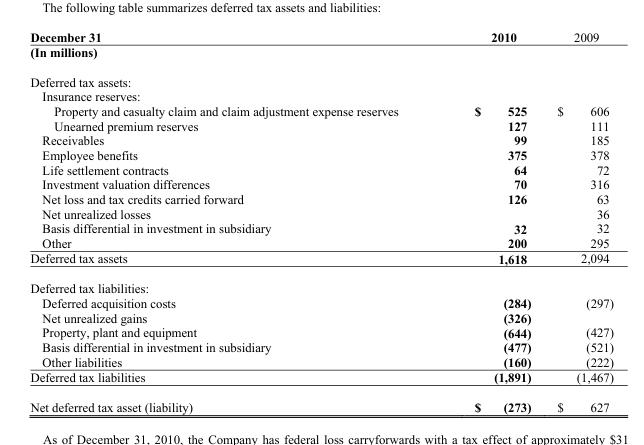table: (29, 29, 613, 414)
table column: (29, 29, 435, 414), (435, 29, 543, 414), (543, 29, 613, 414)
table column header: (29, 29, 613, 44)
table projected row header: (29, 44, 613, 66), (29, 66, 613, 88), (29, 273, 613, 295), (29, 88, 613, 103)
table row: (29, 250, 613, 273), (29, 391, 613, 414), (29, 44, 613, 66), (29, 66, 613, 88), (29, 273, 613, 295), (29, 369, 613, 391), (29, 29, 613, 44), (29, 88, 613, 103), (29, 117, 613, 132), (29, 132, 613, 147), (29, 147, 613, 162), (29, 176, 613, 191), (29, 191, 613, 206), (29, 220, 613, 235), (29, 235, 613, 250), (29, 295, 613, 310), (29, 324, 613, 339), (29, 339, 613, 354), (29, 354, 613, 369), (29, 103, 613, 117), (29, 162, 613, 176), (29, 206, 613, 220), (29, 310, 613, 324)
